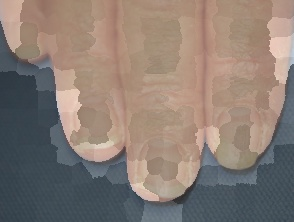Nail_psoriasis: (119, 138, 211, 218), (204, 115, 268, 173), (67, 114, 128, 156)
